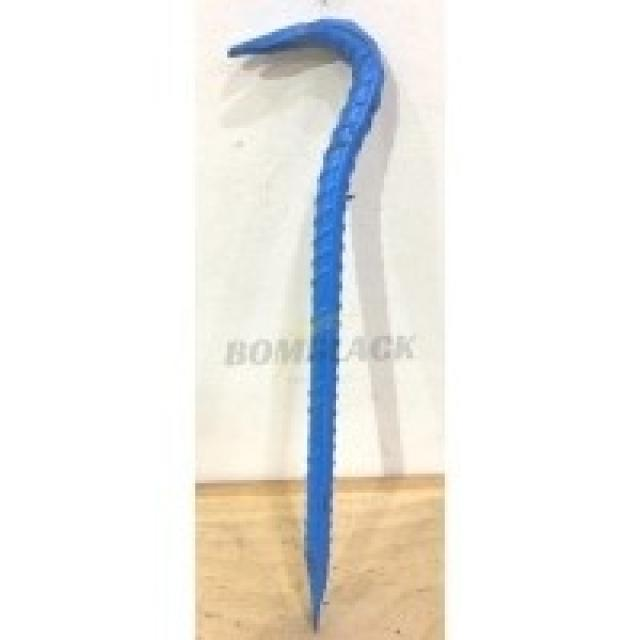Linggis: (228, 14, 385, 632)
